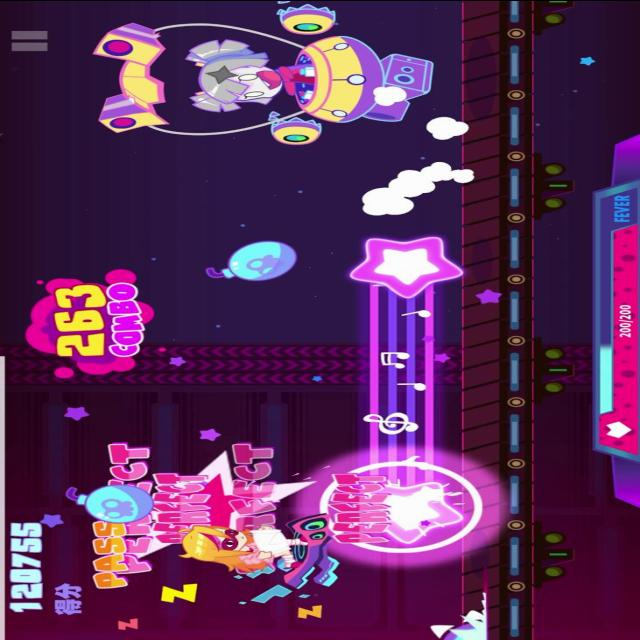hold: (330, 233, 464, 536)
qiangboss: (92, 0, 438, 145)
qiu: (205, 237, 299, 280), (61, 481, 157, 521)
